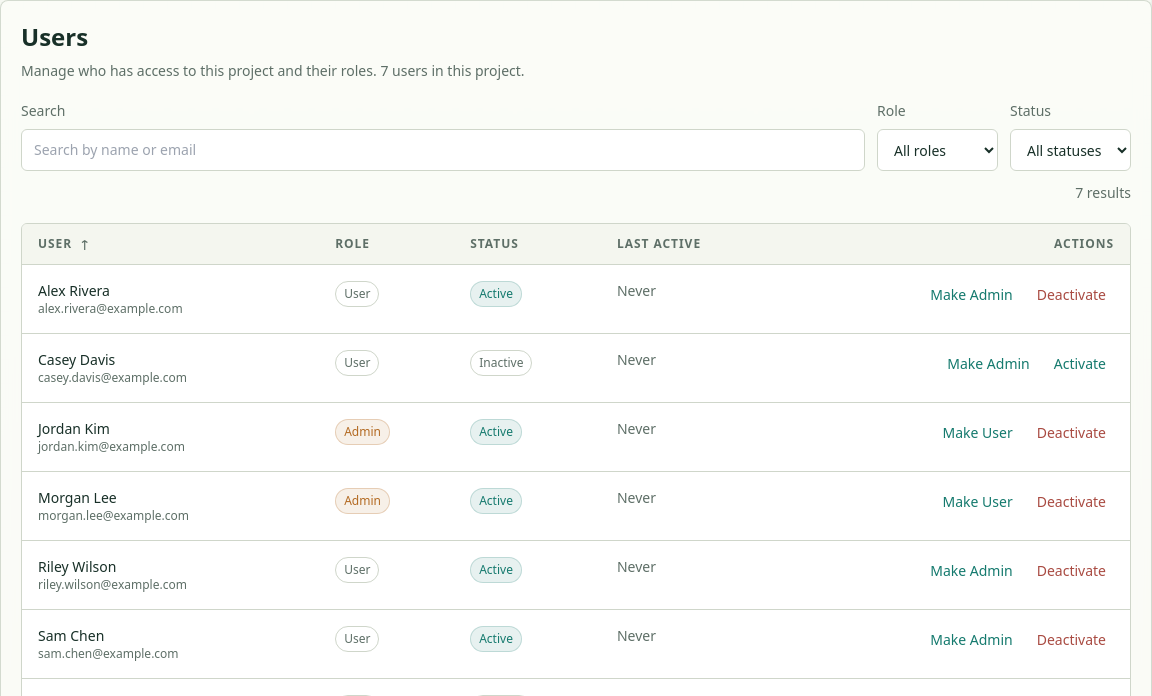
Scenario: AdminUsersPage — table › filters to admin users only
Select "Admin" in the dropdown labelled "Role" at (938, 150), box x1=877 y1=129 x2=998 y2=171
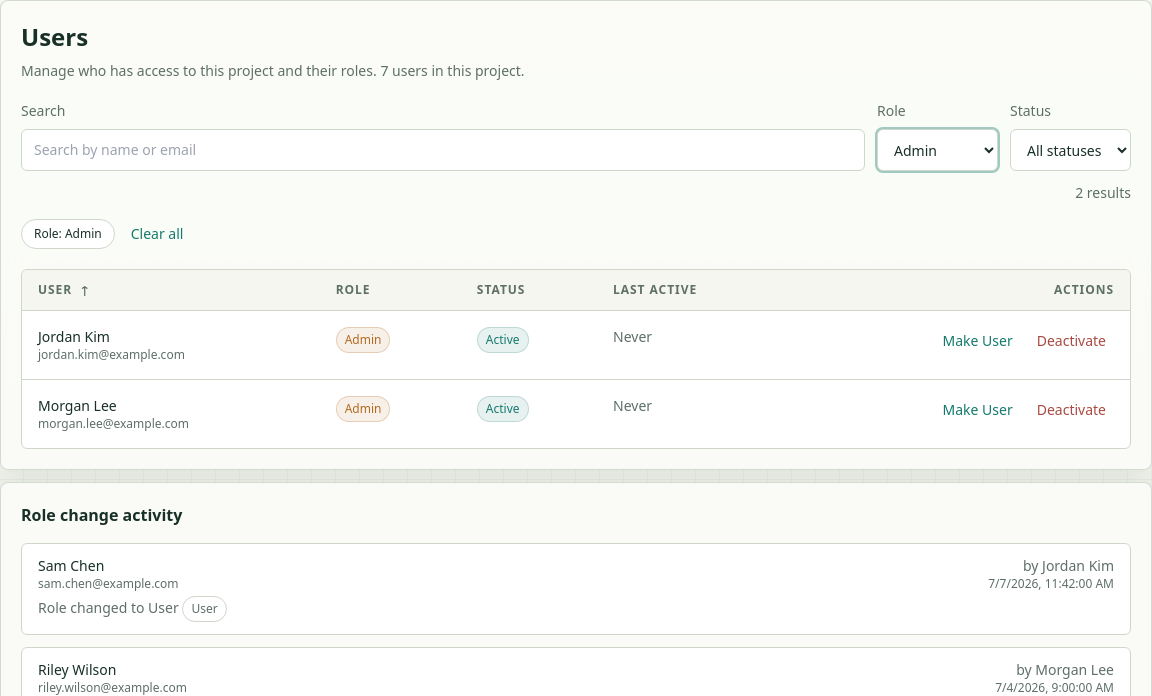
expect the text "Jordan Kim" is shown: met, box x1=38 y1=327 x2=110 y2=346
expect the text "Alex Rivera" is gone: met
